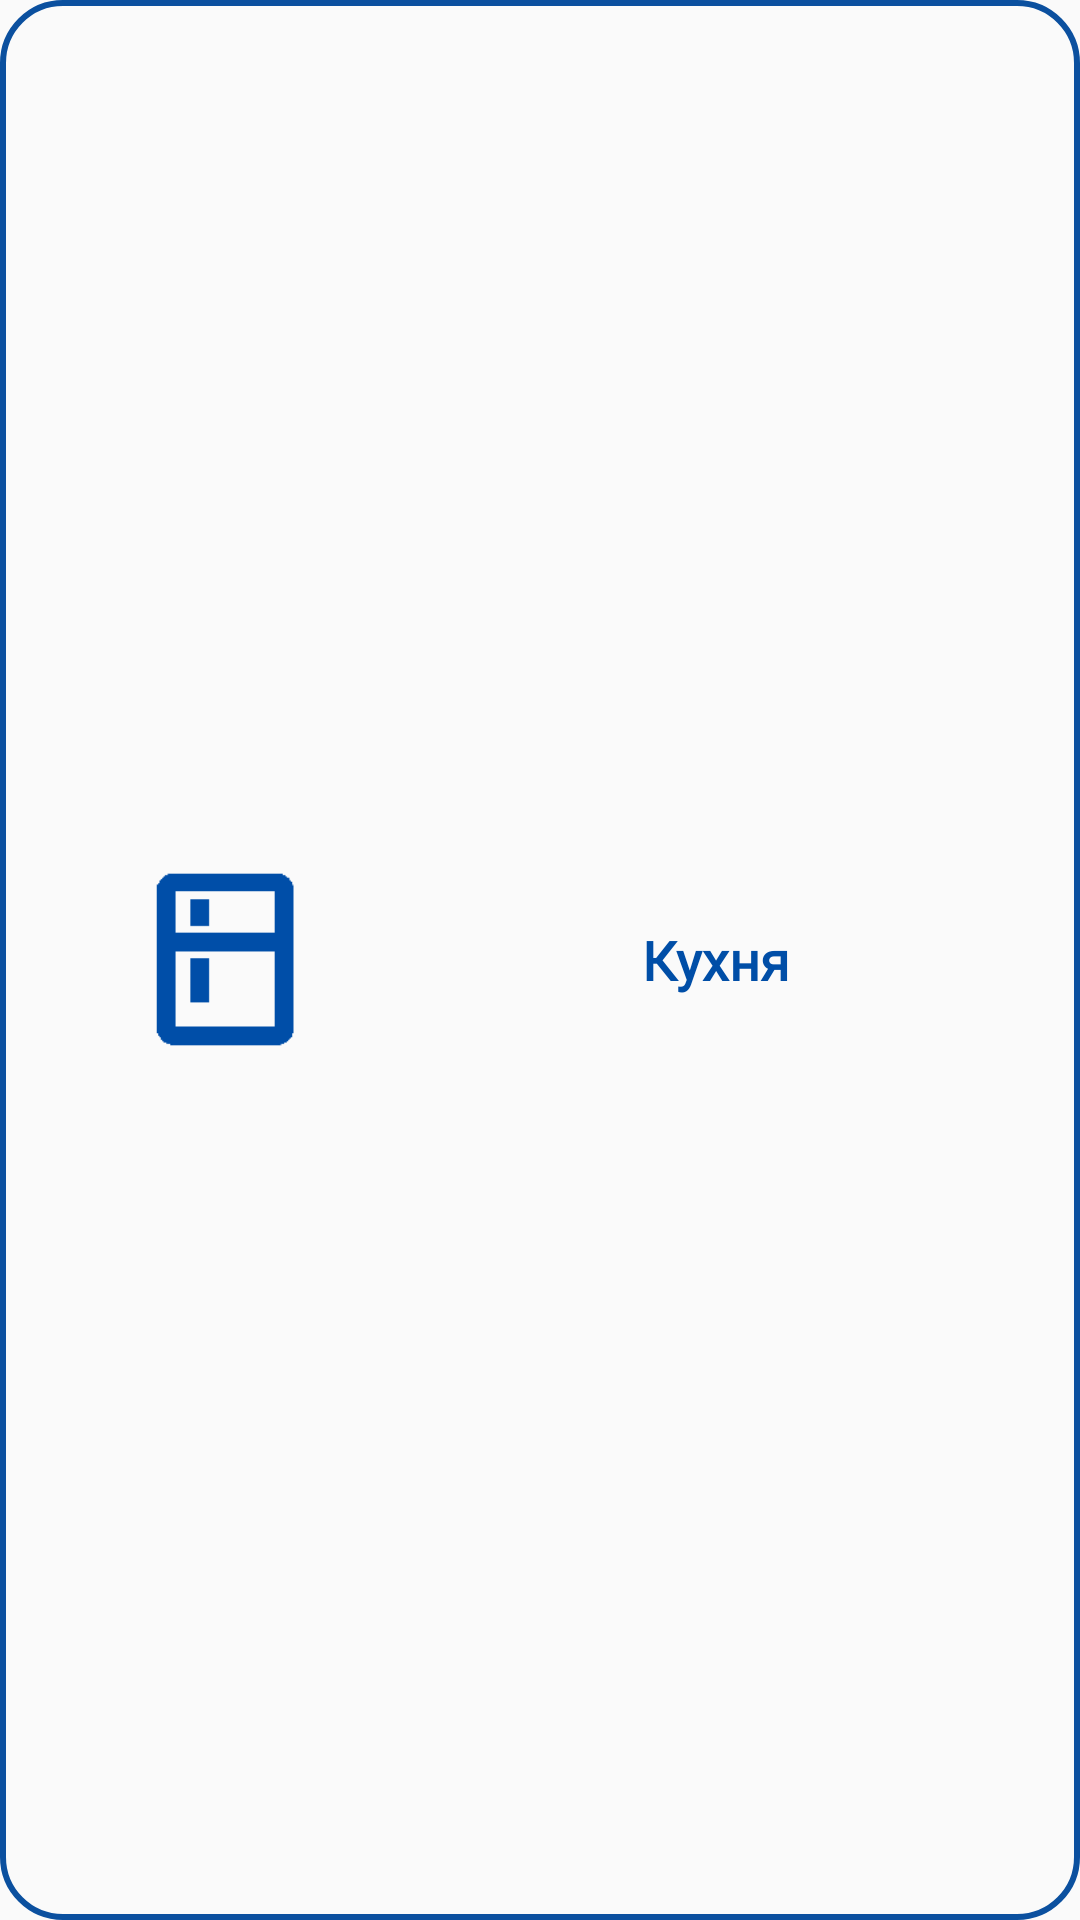

Where icons sit on this 1080 × 1920 app screen, as (x1, y1, x2, y2):
kitchen: (156, 873, 294, 1046)
